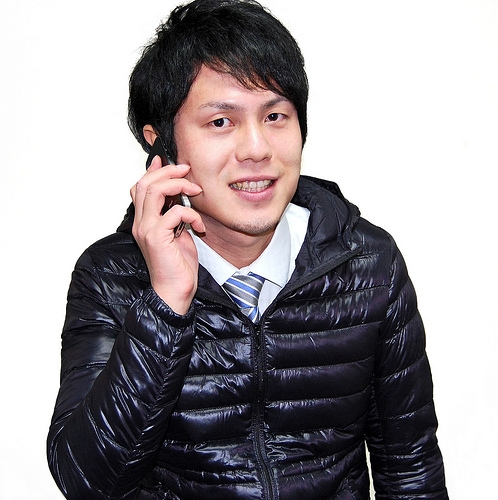phone: (139, 126, 199, 221)
talk: (125, 84, 303, 287)
